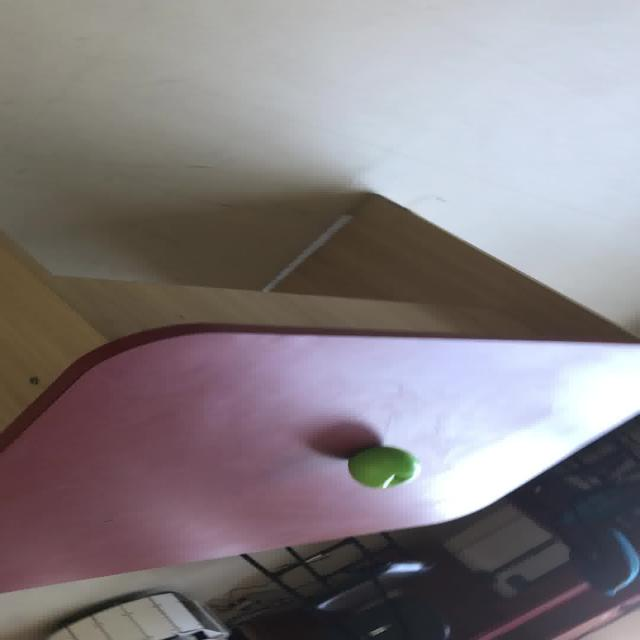apple: (346, 446, 418, 488)
